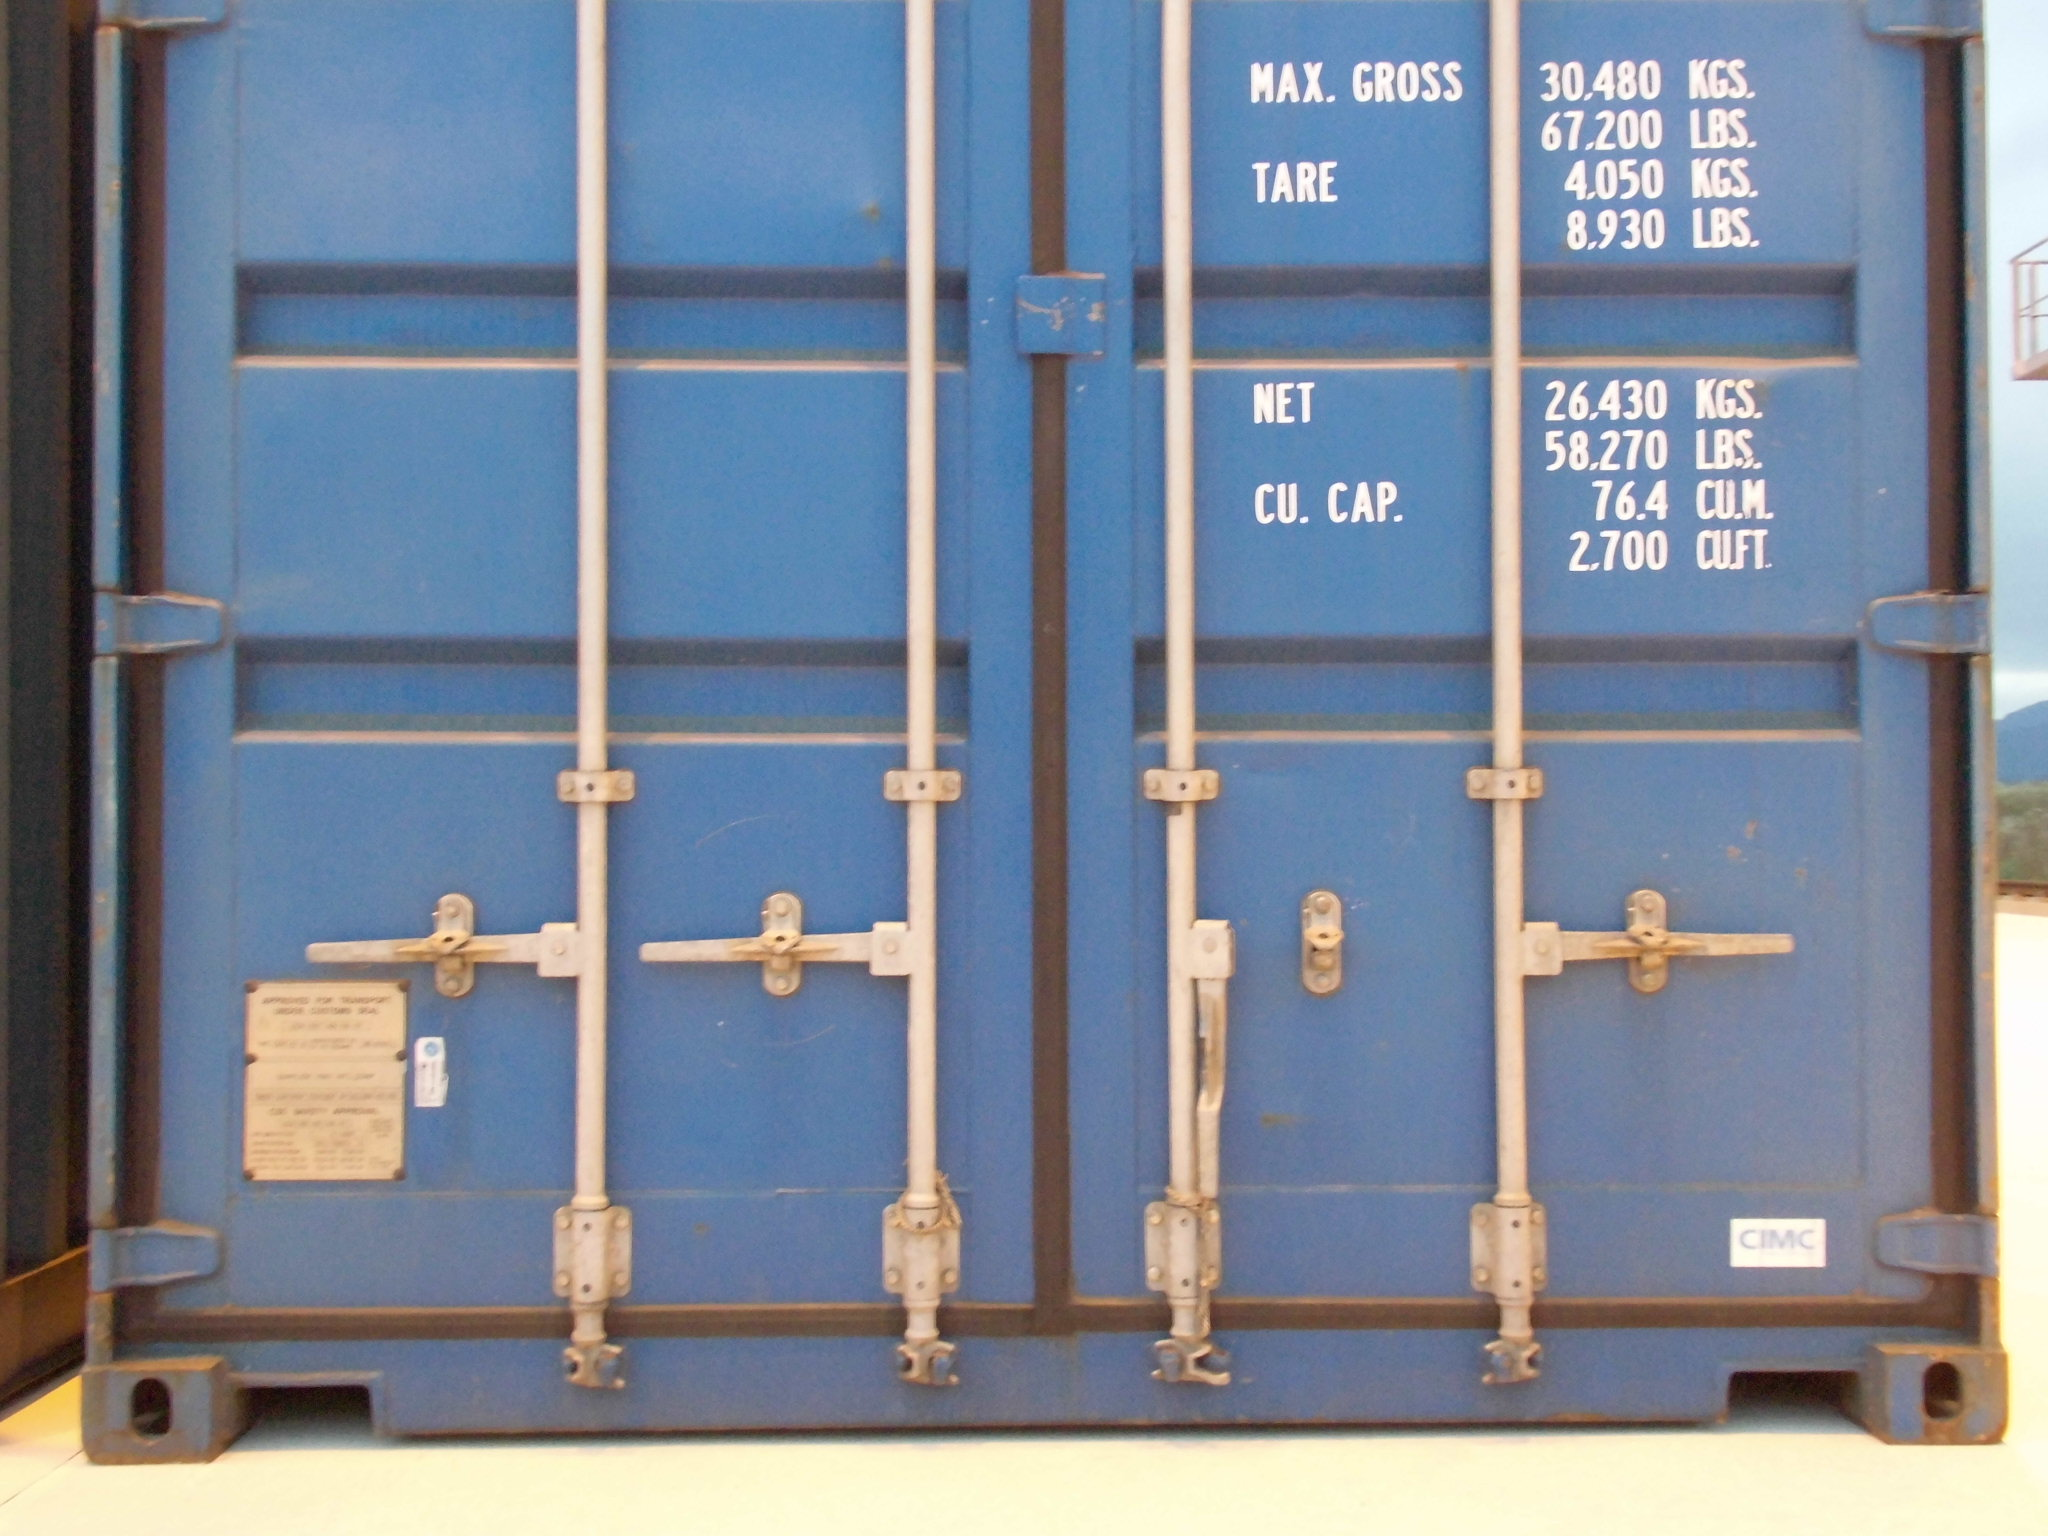container_door: (124, 11, 1983, 1455)
